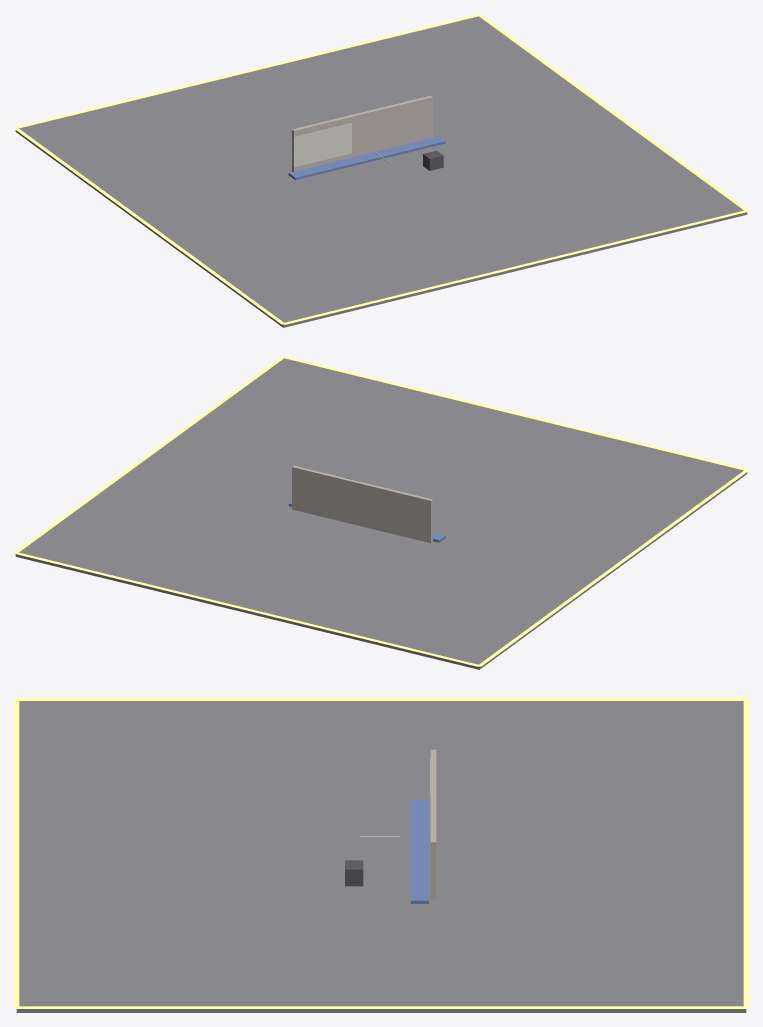
The model's file is sim-pressure-washer.glb.
The picture shows the model from 3 angles, top to bottom: view 1: azimuth 30°, elevation 25°; view 2: azimuth 150°, elevation 25°; view 3: azimuth 270°, elevation 25°; orthographic projection. The views are drawn at different scales.
Parts seen in each view (by area): view 1: Pressure Washer Surface Clean; view 2: Pressure Washer Surface Clean; view 3: Pressure Washer Surface Clean.
Boxes of the visible parts, box(x1,y1,x2,y2) form: Pressure Washer Surface Clean: box(14, 14, 748, 327); Pressure Washer Surface Clean: box(14, 356, 748, 669); Pressure Washer Surface Clean: box(14, 698, 748, 1012).
Bounding box in the file's own units: 40.3 × 3.8 × 40.3.
